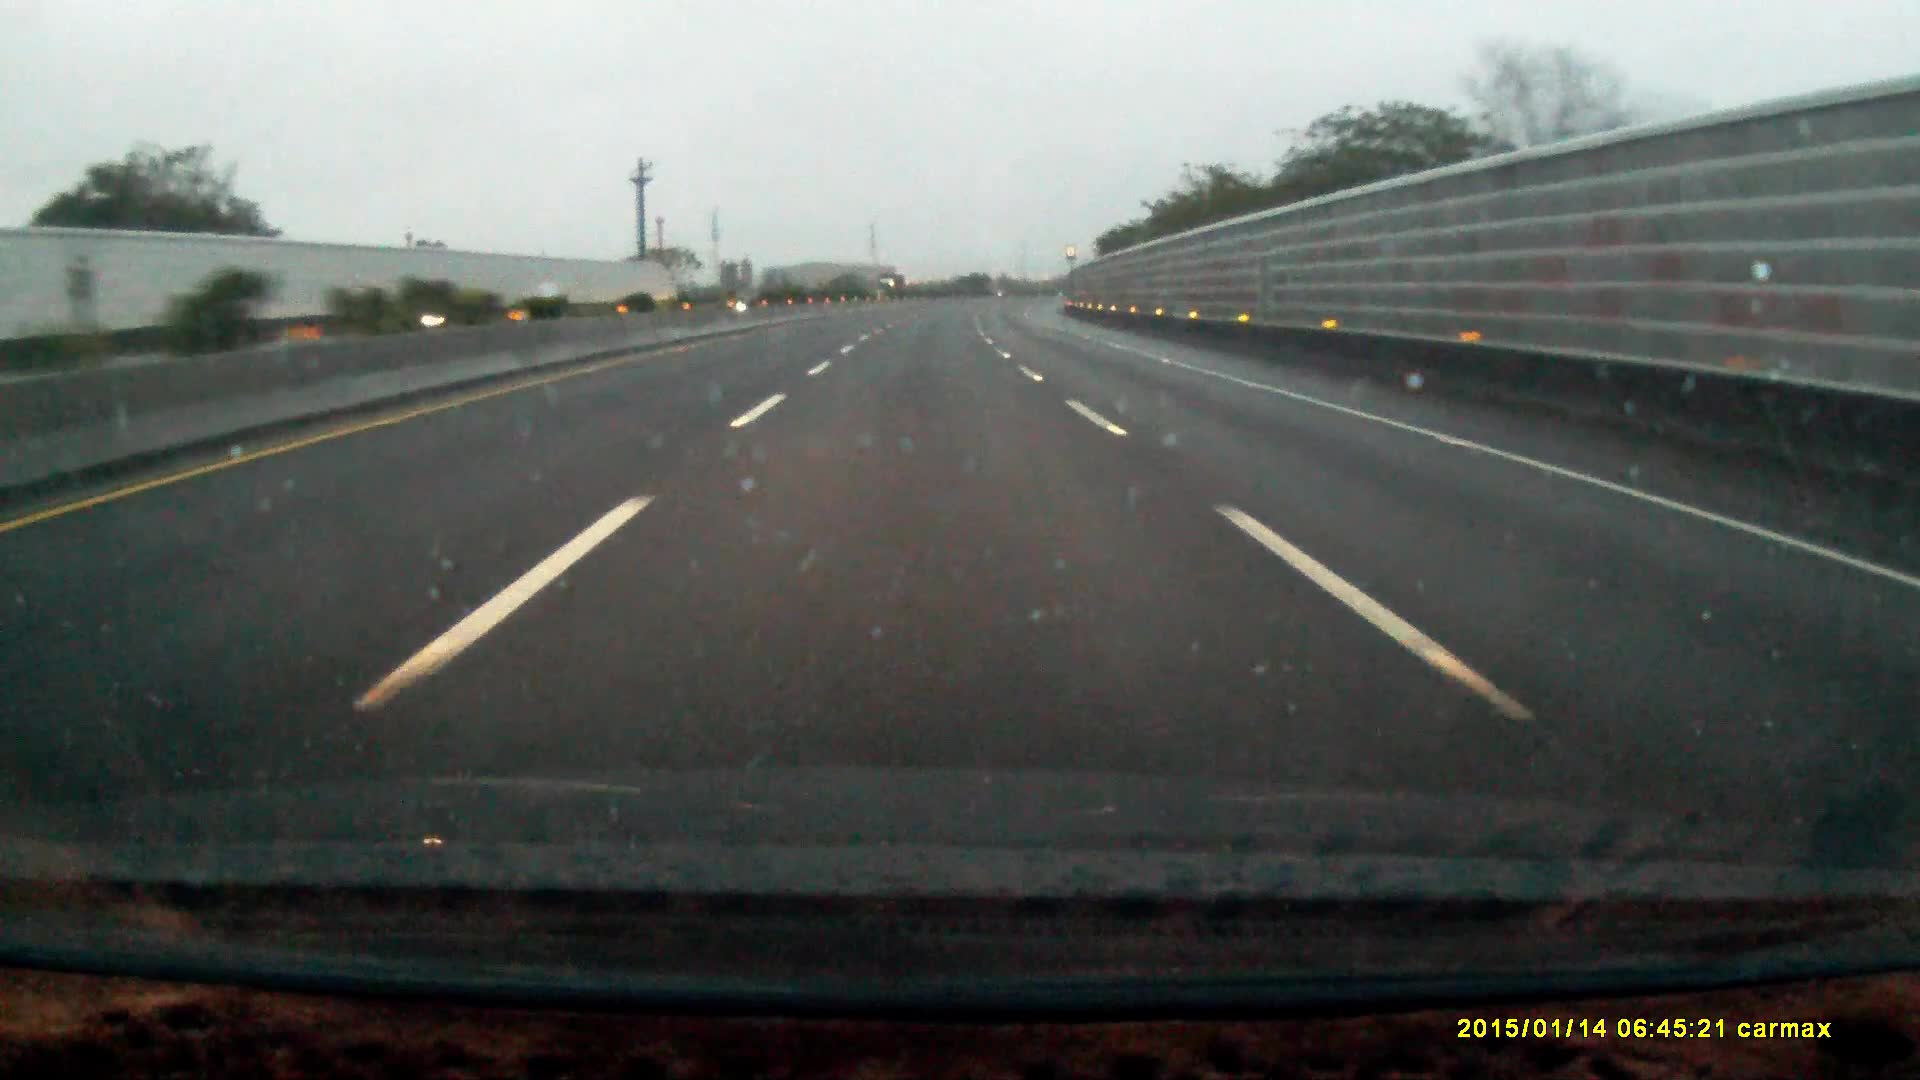vehicle: (880, 274, 906, 301)
